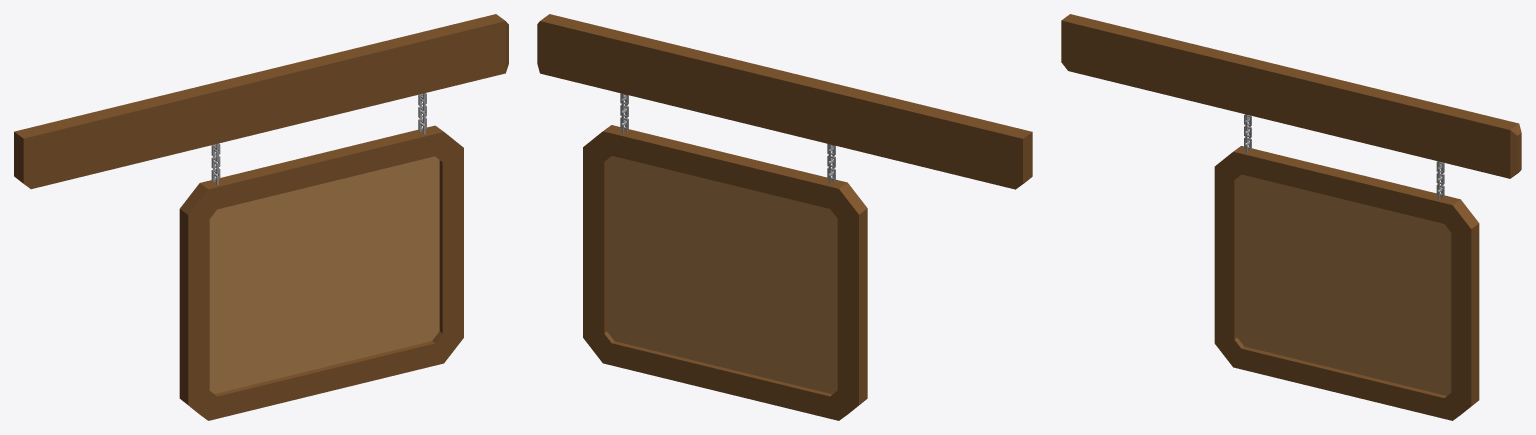
The model's file is Wooden Sign hanging.glb.
3 views of the same model, side by side, from view 1: azimuth 30°, elevation 25°; view 2: azimuth 150°, elevation 25°; view 3: azimuth 330°, elevation 25° (orthographic). The views are drawn at different scales.
Parts seen in each view (by area): view 1: Sign10; view 2: Sign10; view 3: Sign10.
Part boxes in pixels (bbox=[...]): Sign10: bbox=[14, 14, 508, 420]; Sign10: bbox=[537, 14, 1032, 420]; Sign10: bbox=[1061, 14, 1521, 420].
Size of the model in its own units: 1.18 by 0.756 by 0.0406.
